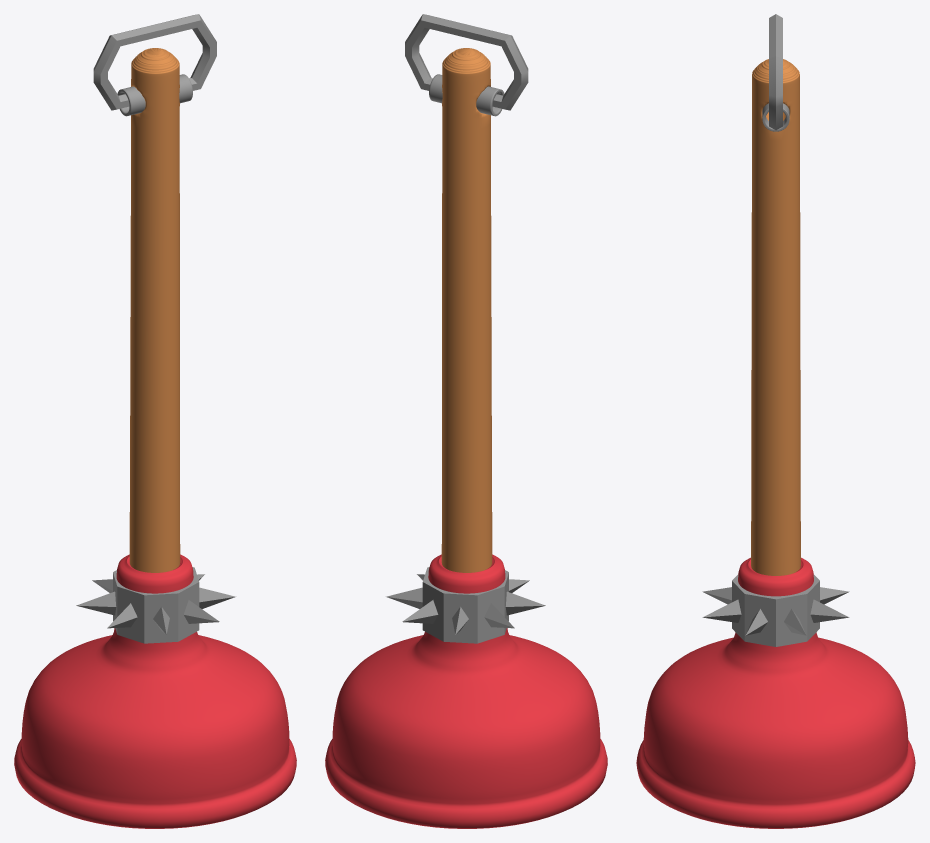
File: ToiletPump.fbx
3 views of the same model, side by side, from view 1: azimuth 30°, elevation 25°; view 2: azimuth 150°, elevation 25°; view 3: azimuth 270°, elevation 25° (orthographic).
Visible parts, largest first — view 1: Cylinder, Torus; view 2: Cylinder, Torus; view 3: Cylinder, Torus.
Boxes of the visible parts, box(x1,y1,x2,y2) form: Cylinder: box(14, 48, 296, 828); Torus: box(93, 14, 216, 110); Cylinder: box(325, 48, 607, 828); Torus: box(405, 14, 528, 110); Cylinder: box(636, 59, 915, 828); Torus: box(769, 14, 782, 130).
Bounding box in the file's own units: 31.97 × 93.2 × 31.97.
Materials: 2 (1 with a texture image).
